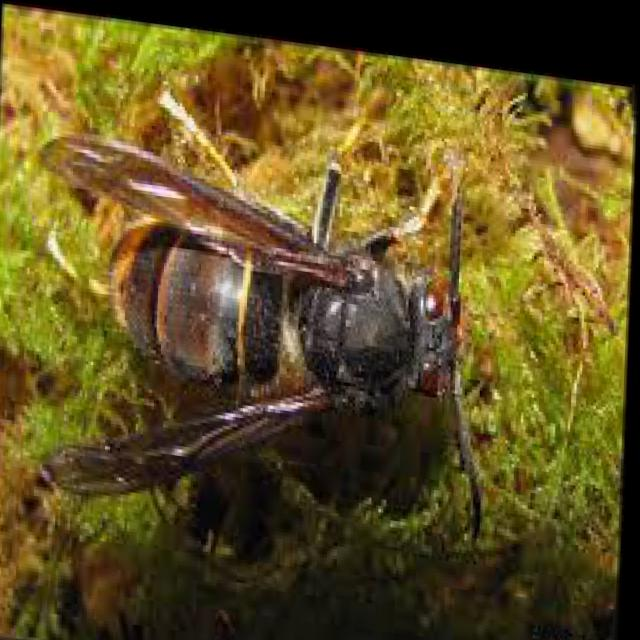Vespa Velutina: (22, 60, 506, 555)
